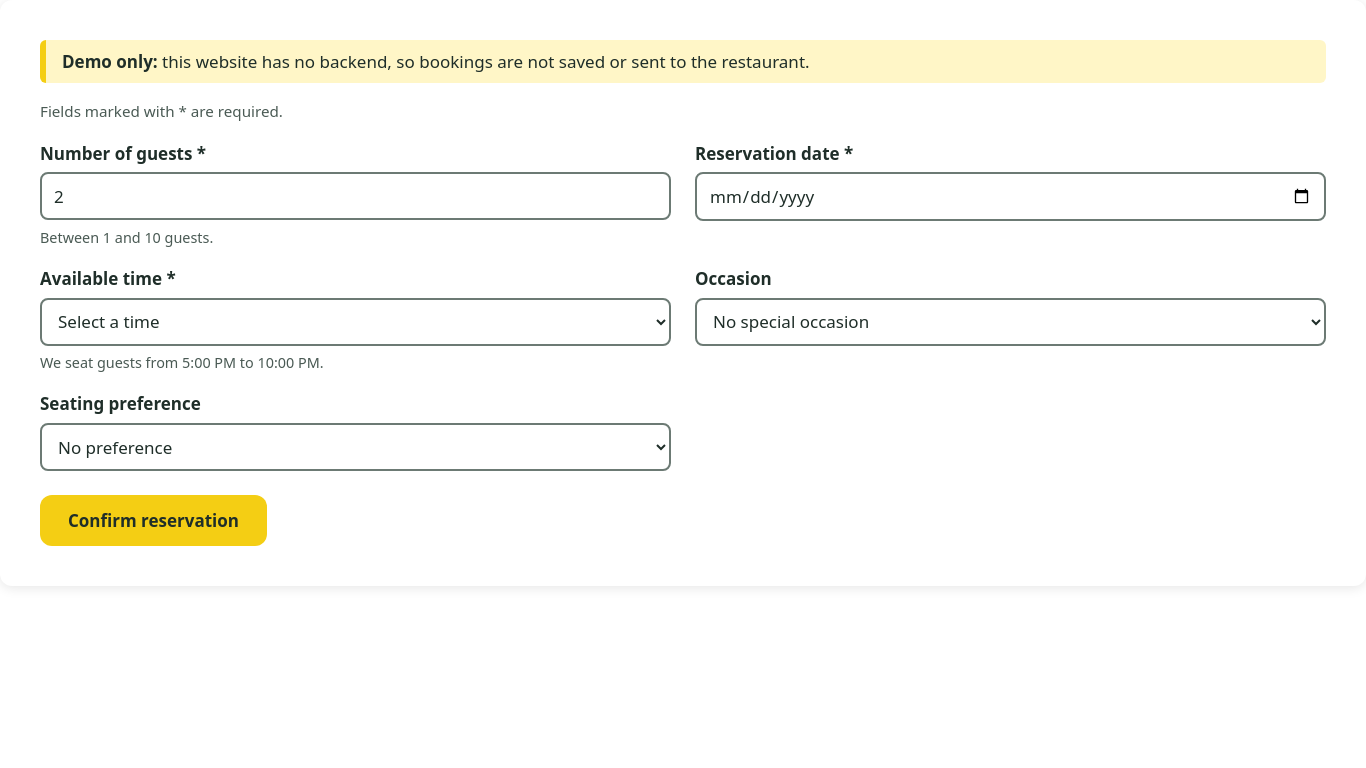
Scenario: BookingForm › shows required-field errors and does not submit an empty form
Step 1. Click the button "Confirm reservation" → x=154, y=521, box top-left (40, 495), bottom-right (267, 546)
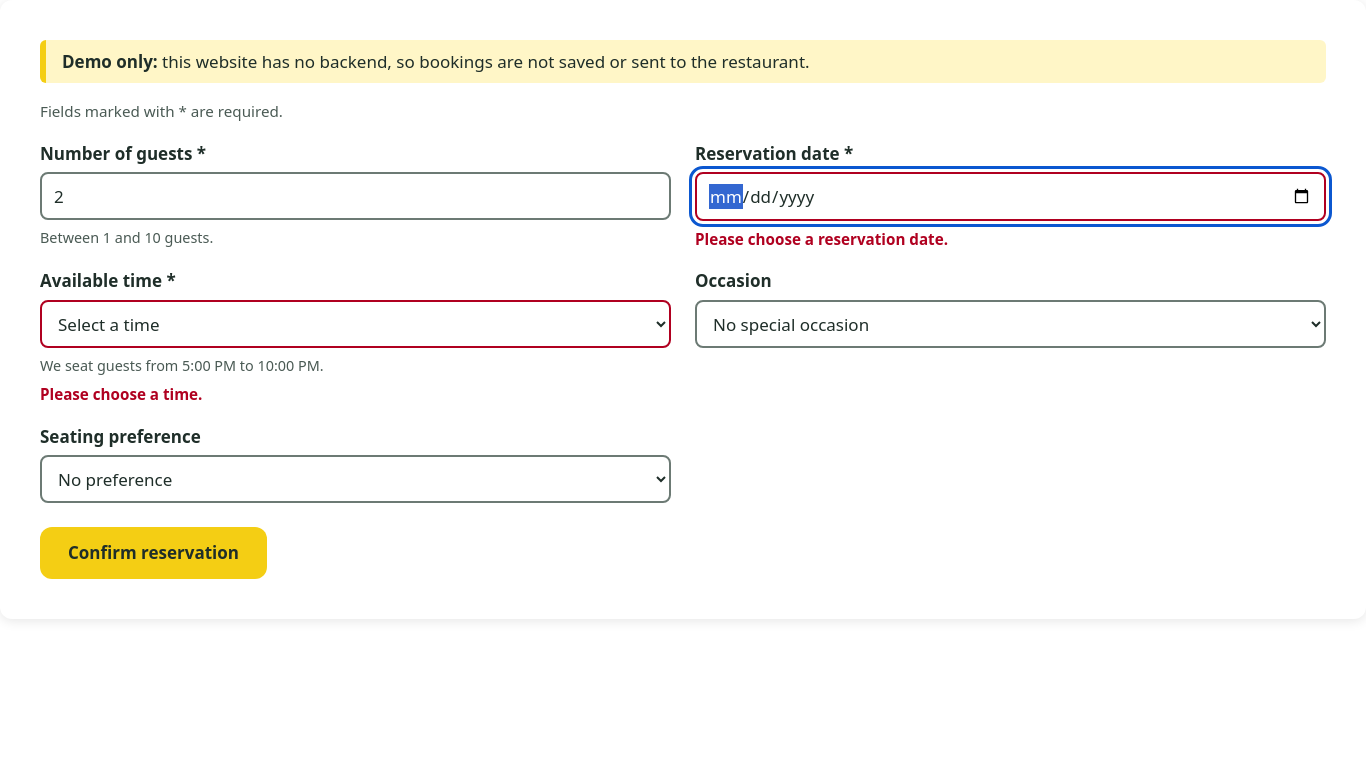
Check: the text "Please choose a reservation date." is shown, box top-left (695, 229), bottom-right (948, 249)
Check: the text "Please choose a time." is shown, box top-left (40, 384), bottom-right (202, 404)
